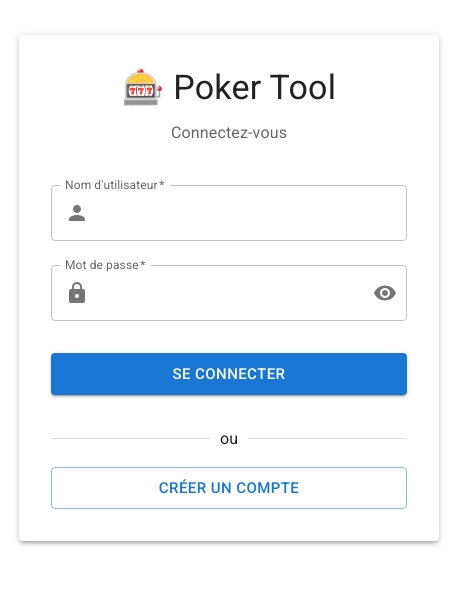
Login page › shows a validation error when fields are empty
Click the button with test id "login-submit": coordinates (229, 374) [51,353,407,395]
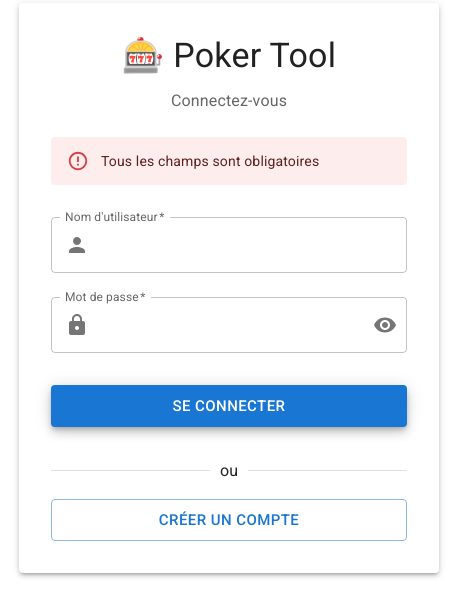
Expected: the message shows "obligatoire", [101,153,319,169]
